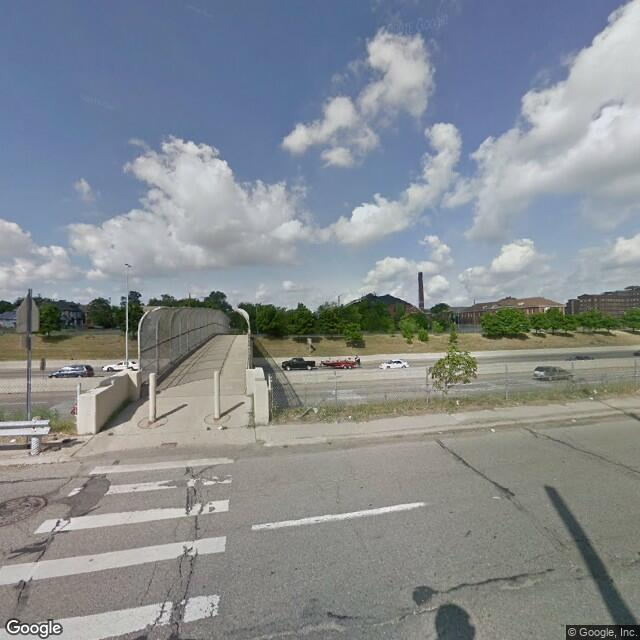litter: (216, 424, 226, 429), (593, 388, 599, 396), (9, 437, 17, 443), (489, 427, 498, 432), (455, 399, 461, 406), (346, 414, 353, 419), (570, 418, 577, 421)
